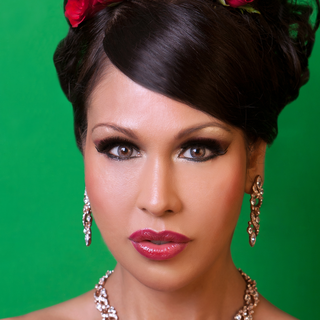eye: (173, 138, 224, 165), (97, 136, 143, 164)
